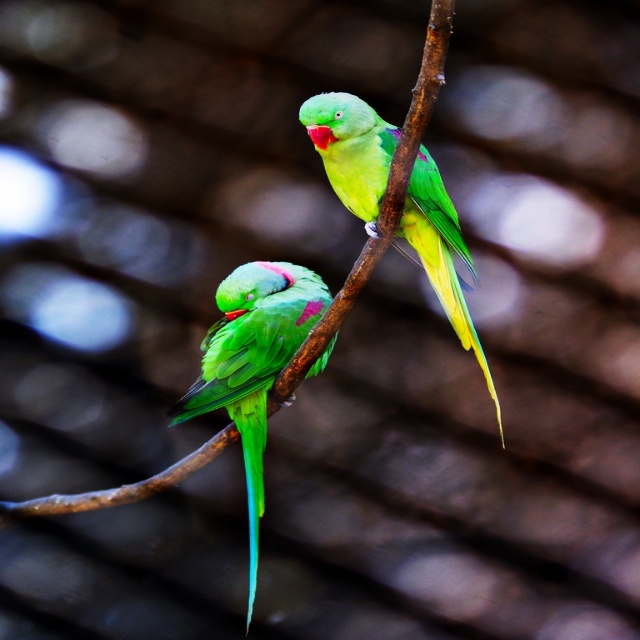Parrot: (293, 88, 502, 451), (165, 263, 340, 631)
